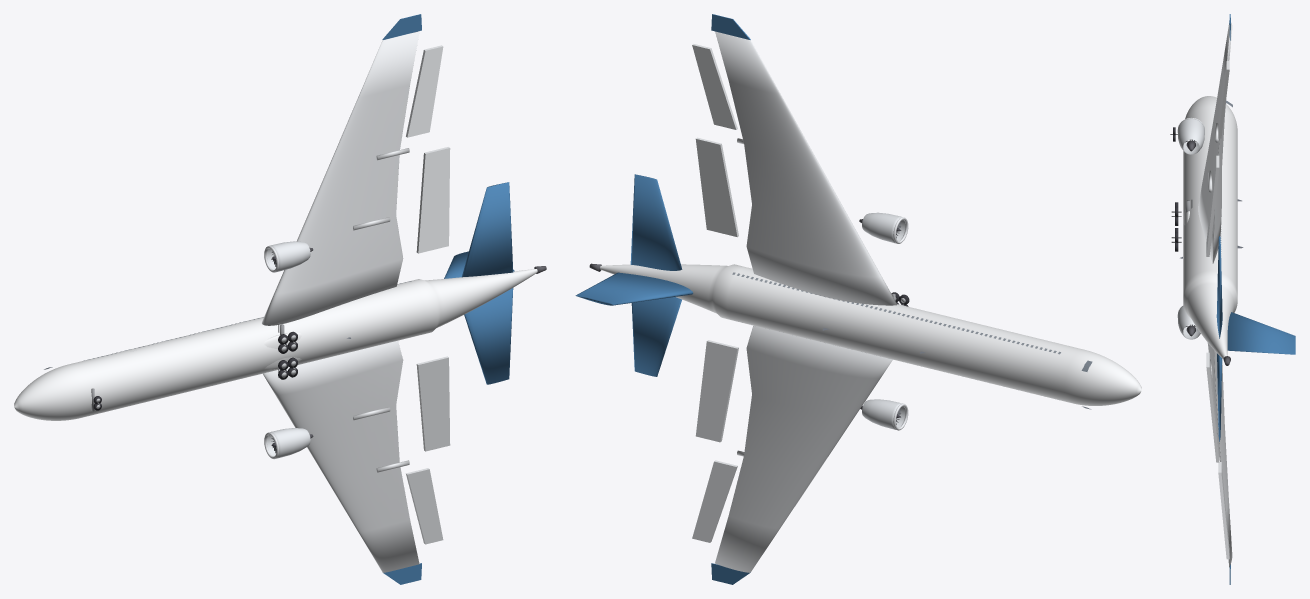
3 views of the same model, side by side, from view 1: azimuth 30°, elevation 25°; view 2: azimuth 150°, elevation 25°; view 3: azimuth 270°, elevation 25° (orthographic).
Parts seen in each view (by area): view 1: Fuselage, Wing_R, Wing_L, HStab_R, HStab_L, Flap_R, Flap_L, Aileron_R, Aileron_L, Nacelle_1_0, Nacelle_-1_0; view 2: Fuselage, Wing_L, Wing_R, HStab_R, Flap_L, HStab_L, Flap_R, Fin, Aileron_L, Aileron_R, Nacelle_1_0, Nacelle_-1_0; view 3: Fuselage, Wing_R, Fin, Wing_L, Nacelle_1_0, Flap_L, Flap_R, HStab_R, Aileron_L, Aileron_R, Nacelle_-1_0, HStab_L.
Boxes of the visible parts, left/top/right/bottom form: Fuselage: left=14, top=269, right=537, bottom=420; Wing_R: left=262, top=31, right=419, bottom=325; Wing_L: left=263, top=340, right=419, bottom=572; HStab_R: left=462, top=182, right=513, bottom=277; HStab_L: left=464, top=288, right=513, bottom=384; Flap_R: left=416, top=147, right=450, bottom=253; Flap_L: left=416, top=356, right=450, bottom=451; Aileron_R: left=406, top=45, right=443, bottom=137; Aileron_L: left=406, top=468, right=443, bottom=544; Nacelle_1_0: left=267, top=241, right=310, bottom=272; Nacelle_-1_0: left=267, top=428, right=310, bottom=458; Fuselage: left=600, top=264, right=1141, bottom=405; Wing_L: left=715, top=325, right=892, bottom=572; Wing_R: left=715, top=31, right=897, bottom=305; HStab_R: left=630, top=174, right=682, bottom=270; Flap_L: left=695, top=340, right=738, bottom=442; HStab_L: left=631, top=297, right=681, bottom=376; Flap_R: left=695, top=137, right=738, bottom=237; Fin: left=575, top=272, right=693, bottom=305; Aileron_L: left=692, top=460, right=737, bottom=542; Aileron_R: left=692, top=44, right=737, bottom=129; Nacelle_1_0: left=862, top=212, right=905, bottom=243; Nacelle_-1_0: left=862, top=399, right=905, bottom=429; Fuselage: left=1183, top=96, right=1237, bottom=359; Wing_R: left=1198, top=22, right=1232, bottom=263; Fin: left=1227, top=312, right=1295, bottom=354; Wing_L: left=1207, top=343, right=1232, bottom=567; Nacelle_1_0: left=1177, top=118, right=1204, bottom=154; Flap_L: left=1206, top=352, right=1219, bottom=462; Flap_R: left=1206, top=155, right=1219, bottom=256; HStab_R: left=1216, top=236, right=1222, bottom=338; Aileron_L: left=1218, top=462, right=1229, bottom=559; Aileron_R: left=1218, top=61, right=1229, bottom=138; Nacelle_-1_0: left=1177, top=306, right=1200, bottom=339; HStab_L: left=1217, top=353, right=1222, bottom=441.
Bounding box in the file's own units: 64.08 × 64.01 × 12.96.
